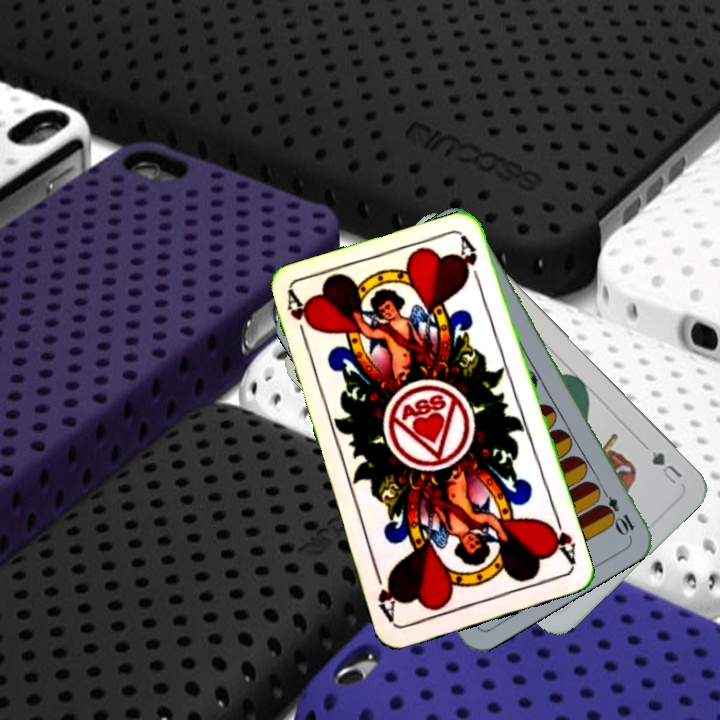E10: (595, 483, 637, 538)
GU: (646, 446, 685, 487)
HA: (542, 511, 579, 568), (282, 289, 316, 347)
